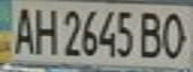2: (57, 5, 81, 57)
4: (96, 7, 121, 57)
5: (115, 7, 139, 58)
6: (78, 6, 100, 57)
A: (6, 2, 39, 55)
B: (136, 8, 166, 60)
H: (30, 3, 60, 56)
O: (157, 8, 190, 61)
